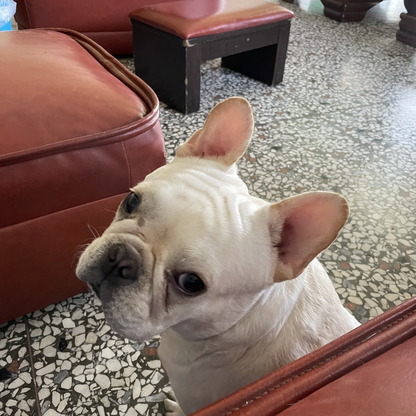bulldog: (73, 94, 368, 415)
